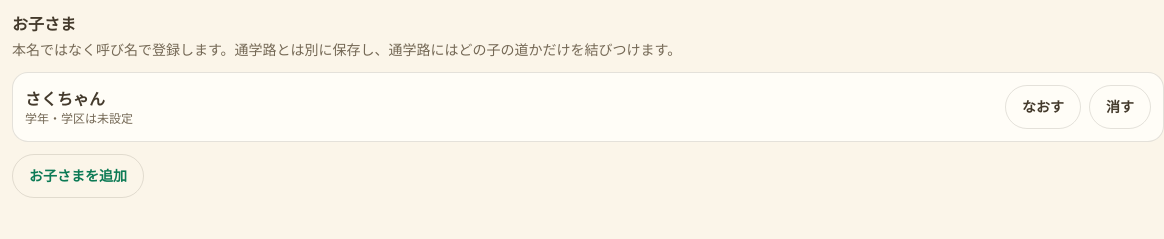
Test: ChildrenSettings(お子さまの登録) › 消すときは画面の中で確かめ、通学路は残ることを伝える(ブラウザの確認ダイアログは使わない)
The image size is (1164, 239).
Step 1. Click the button with aria-label "さくちゃんを消す" → [1120, 107], box [1089,85,1151,129]
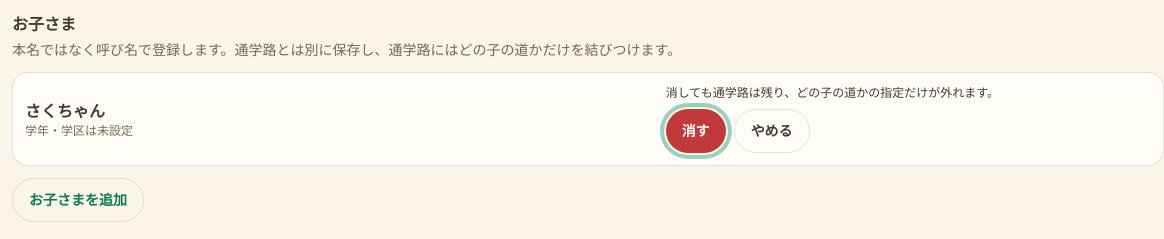
Result: the text "消しても通学路は残り、どの子の道かの指定だけが外れます。" is shown at [666,84,999,101]
Step 2. Click the button "消す" → [696, 131], box [666,109,726,153]
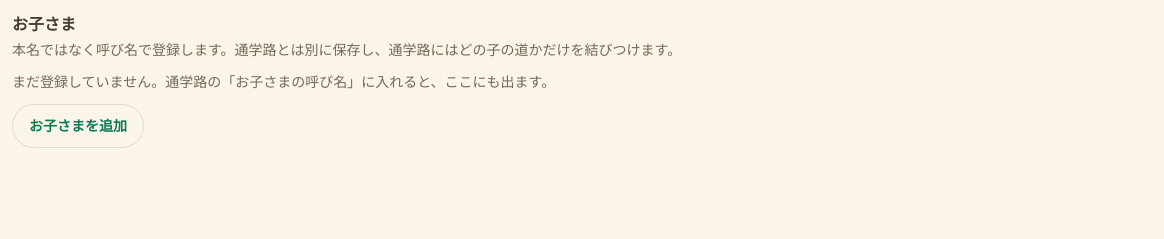
Result: the text "さくちゃん" is gone
